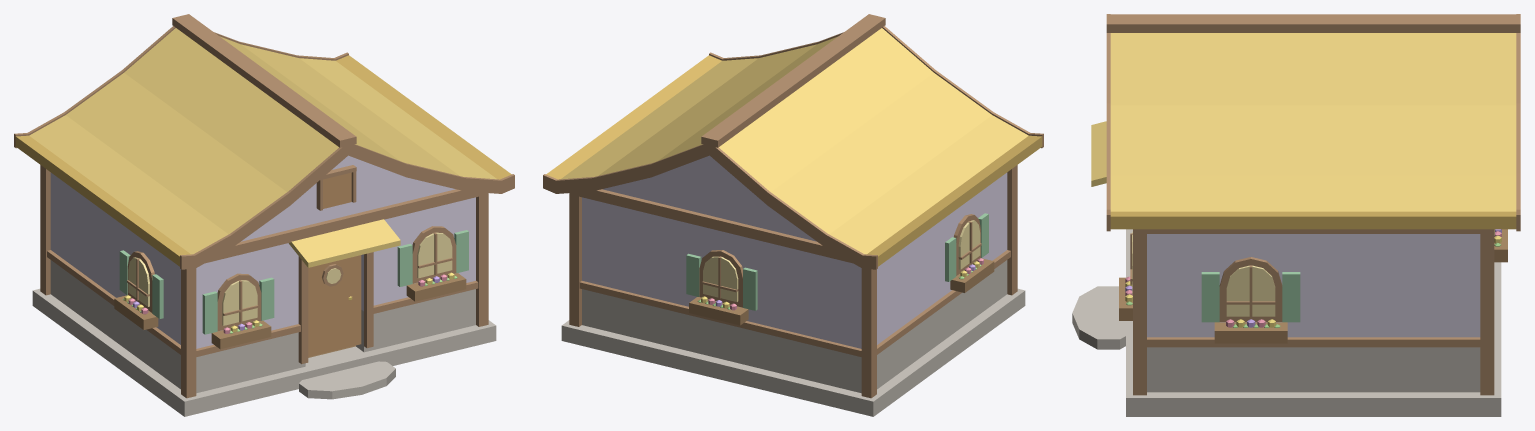
Rendered from farmhouse_lilac.glb.
3 renders of one model, left to right at view 1: azimuth 30°, elevation 25°; view 2: azimuth 150°, elevation 25°; view 3: azimuth 270°, elevation 25°, orthographic. The views are drawn at different scales.
Visible parts, largest first — view 1: Player; view 2: Player; view 3: Player.
Part boxes in pixels (<box>): Player: <box>14,14,514,416</box>; Player: <box>543,14,1043,416</box>; Player: <box>1072,14,1520,416</box>.
Size of the model in its own units: 6.84 by 4.82 by 6.45.
